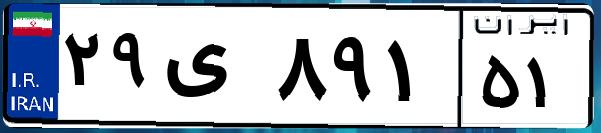1: (385, 28, 445, 110), (525, 38, 570, 115)
2: (57, 26, 110, 100)
5: (475, 38, 525, 113)
8: (270, 28, 330, 110)
9: (330, 28, 385, 110), (110, 28, 158, 98)
ی: (158, 20, 270, 120)
